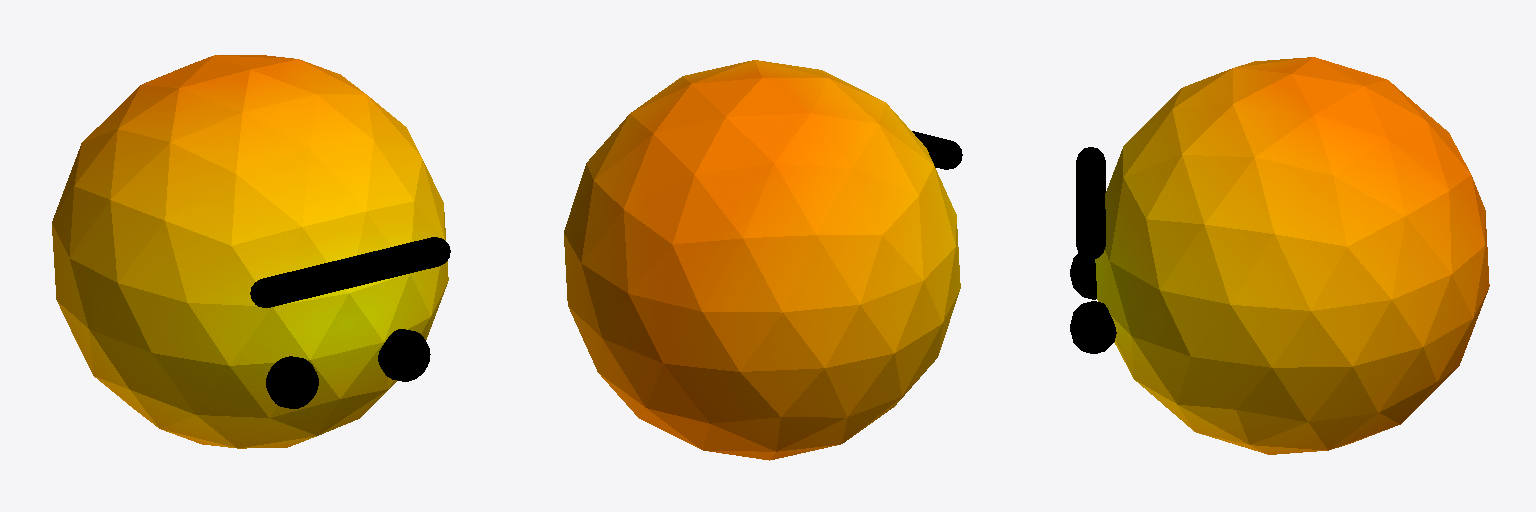
3 renders of one model, left to right at view 1: azimuth 30°, elevation 25°; view 2: azimuth 150°, elevation 25°; view 3: azimuth 270°, elevation 25°, orthographic.
Visible parts, largest first — view 1: GeoSphere002, Capsule002, Torus004, Torus003; view 2: GeoSphere002, Capsule002; view 3: GeoSphere002, Capsule002, Torus003, Torus004.
Part boxes in pixels (left/top/right/bottom): GeoSphere002: left=52, top=55, right=448, bottom=448; Capsule002: left=250, top=237, right=450, bottom=307; Torus004: left=266, top=356, right=318, bottom=408; Torus003: left=378, top=329, right=430, bottom=381; GeoSphere002: left=564, top=60, right=960, bottom=460; Capsule002: left=912, top=131, right=962, bottom=169; GeoSphere002: left=1095, top=57, right=1489, bottom=454; Capsule002: left=1076, top=147, right=1105, bottom=259; Torus003: left=1070, top=301, right=1116, bottom=353; Torus004: left=1070, top=253, right=1096, bottom=299.
Size of the model in its own units: 34.35 by 34.95 by 36.45.
2 materials, 1 textured.